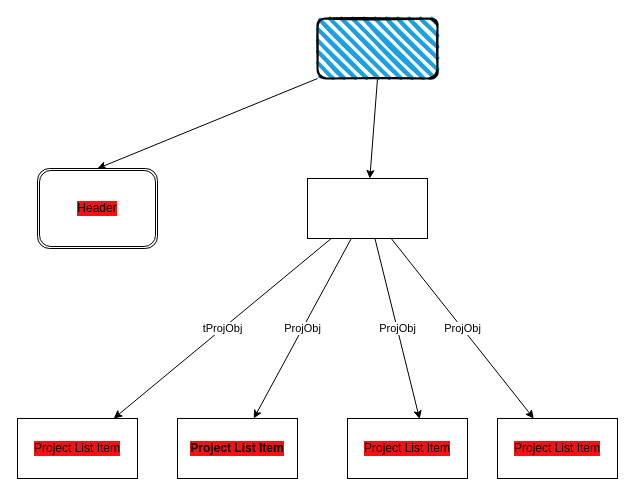
Image size: 635x496. Some labels were removed from this diagram. The centre of each missing label's shape, as x and y in pixels:
"APP" belongs at (377,48).
"Project List" belongs at (367,208).
